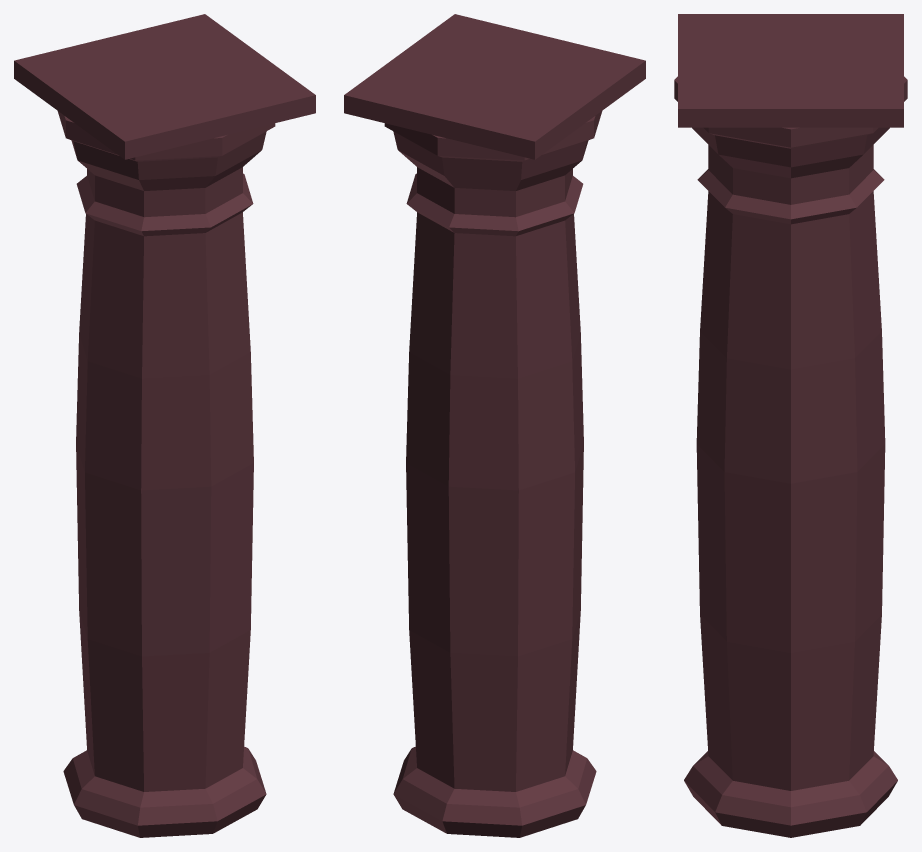
Rendered from SM_Pillar_Tuscan_Small_Empire.fbx.
The picture shows the model from 3 angles, left to right: view 1: azimuth 30°, elevation 25°; view 2: azimuth 150°, elevation 25°; view 3: azimuth 270°, elevation 25°; orthographic projection.
Visible parts, largest first — view 1: SM_Pillar_Tuscan_Small_Empire; view 2: SM_Pillar_Tuscan_Small_Empire; view 3: SM_Pillar_Tuscan_Small_Empire.
Part boxes in pixels (left/top/right/bottom): SM_Pillar_Tuscan_Small_Empire: left=14, top=14, right=315, bottom=837; SM_Pillar_Tuscan_Small_Empire: left=344, top=14, right=645, bottom=837; SM_Pillar_Tuscan_Small_Empire: left=674, top=14, right=907, bottom=837.
Size of the model in its own units: 0.8633 by 3 by 0.8633.
